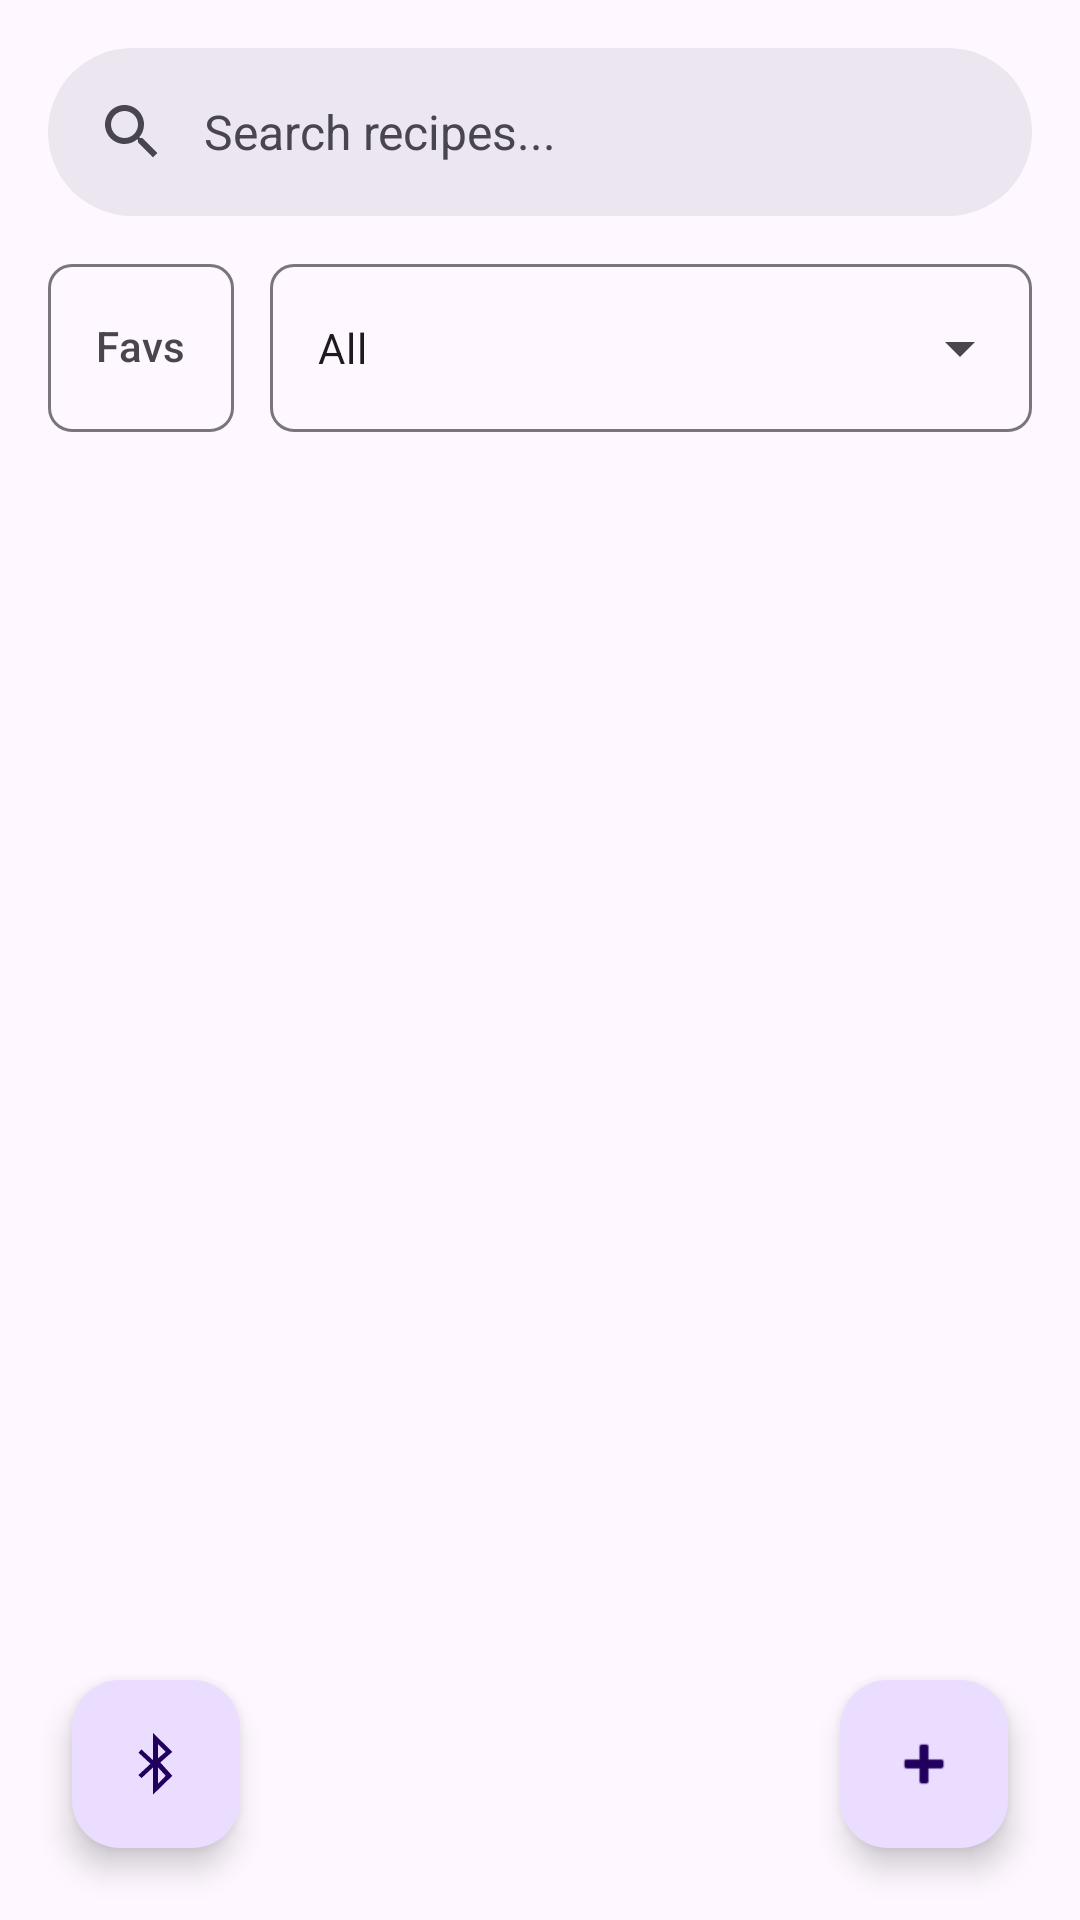

Icons on this 1080px x 1920px Android screen, each with its box as (x1, y1, x2, y2):
Add new recipe: (840, 1680, 1008, 1848)
